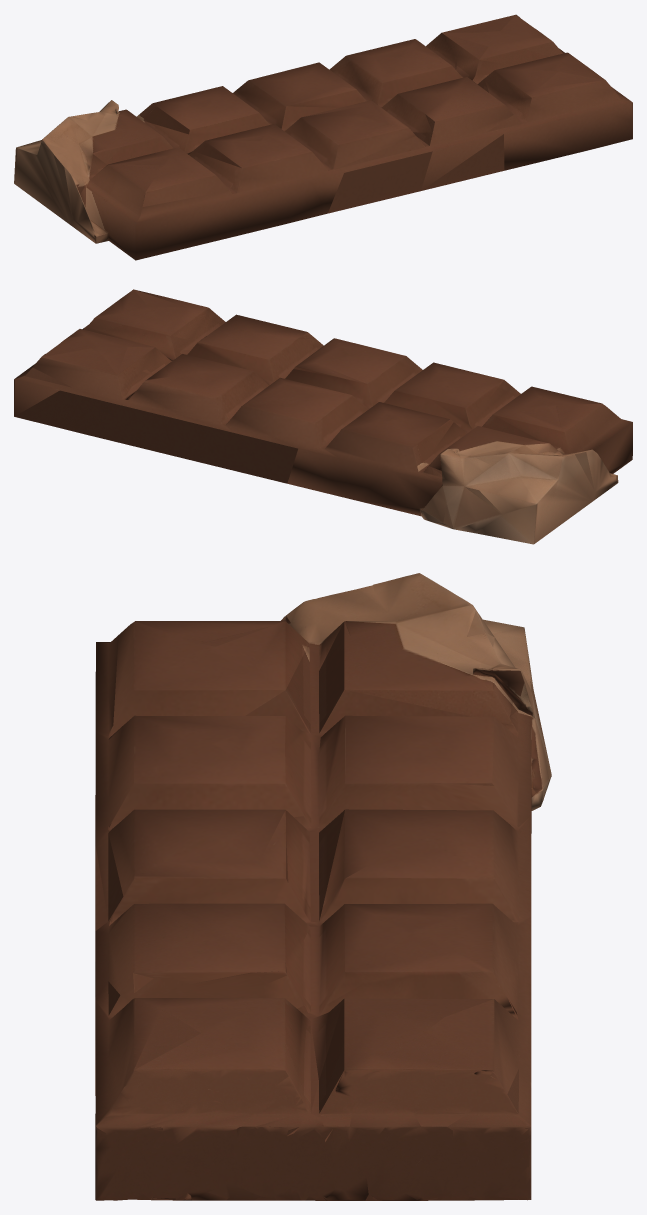
Rendered from Meshy_AI_Geometric_Chocolate_B_0823054448_texture.fbx.
3 views of the same model, one above another, from view 1: azimuth 30°, elevation 25°; view 2: azimuth 150°, elevation 25°; view 3: azimuth 270°, elevation 25° (orthographic). The views are drawn at different scales.
Parts seen in each view (by area): view 1: output_unwrapped; view 2: output_unwrapped; view 3: output_unwrapped.
Part boxes in pixels (x1,y1,x2,y2): output_unwrapped: [14, 14, 632, 260]; output_unwrapped: [14, 289, 632, 544]; output_unwrapped: [95, 573, 551, 1200].
Bounding box in the file's own units: 190 × 24.47 × 73.71.
1 material, 1 textured.
